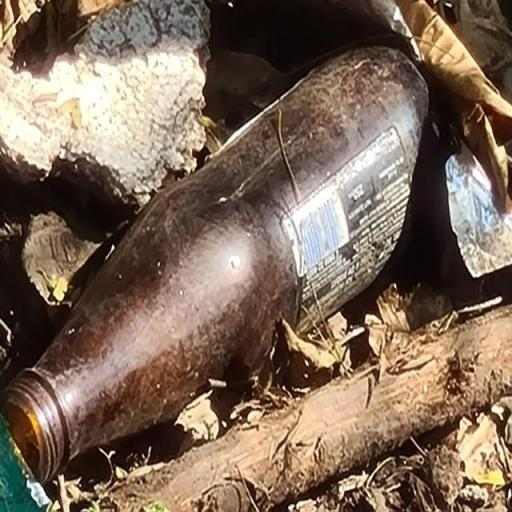glass: (6, 30, 508, 480)
